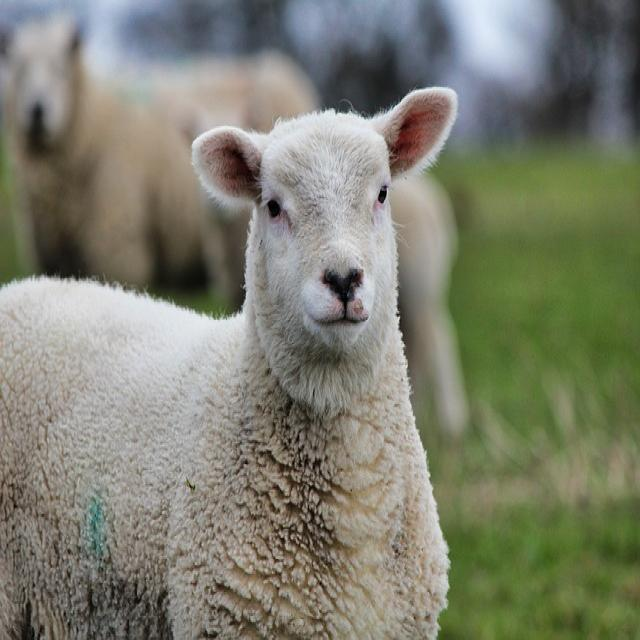sheep: (0, 84, 461, 639), (1, 14, 321, 308)
